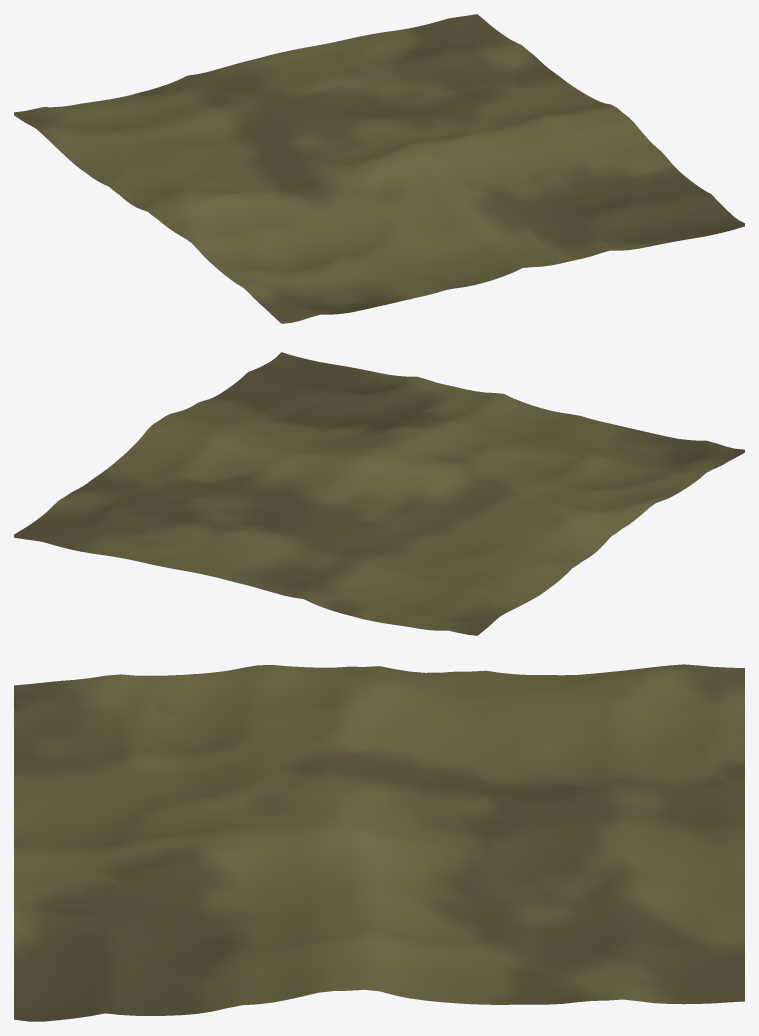
The model's file is land_m_03_04.glb.
3 views of the same model, one above another, from view 1: azimuth 30°, elevation 25°; view 2: azimuth 150°, elevation 25°; view 3: azimuth 270°, elevation 25° (orthographic). The views are drawn at different scales.
Visible parts, largest first — view 1: land_m_03_04; view 2: land_m_03_04; view 3: land_m_03_04.
Boxes of the visible parts, x1,y1,x2,y2 form: land_m_03_04: [14, 14, 744, 323]; land_m_03_04: [14, 352, 744, 635]; land_m_03_04: [14, 664, 744, 1021].
Size of the model in its own units: 960 by 80.17 by 960.
